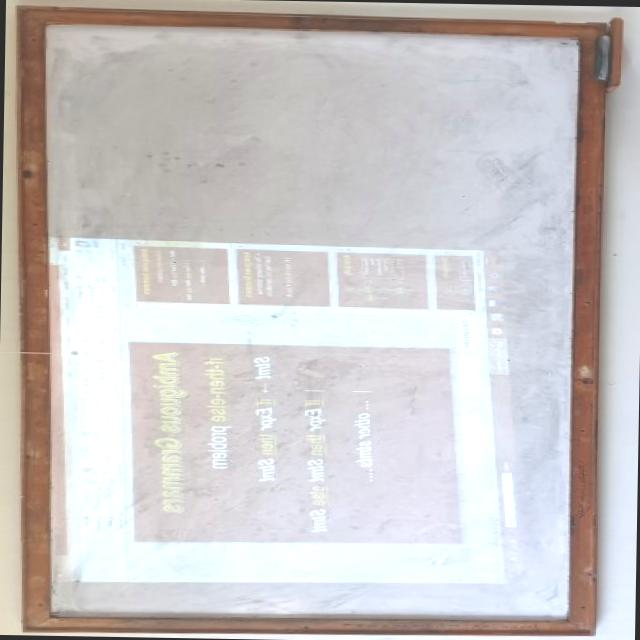Slide: (31, 237, 525, 584)
White-board: (32, 14, 590, 629)
